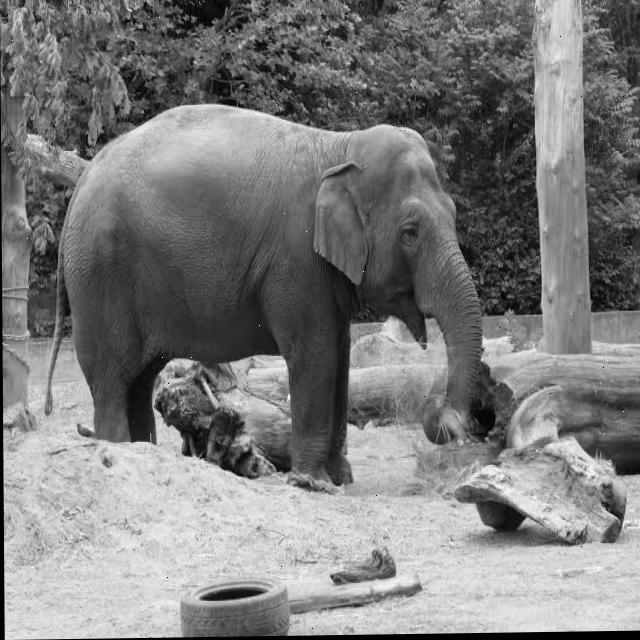Elephant: (50, 64, 531, 436)
